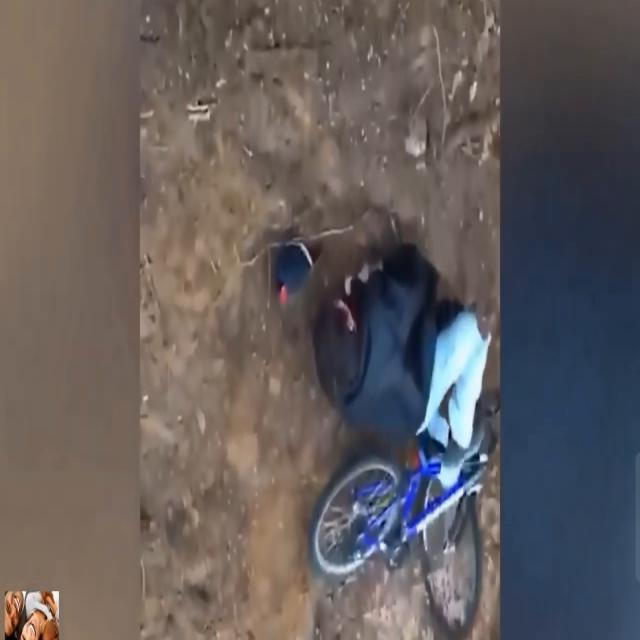fall: (310, 254, 490, 493)
